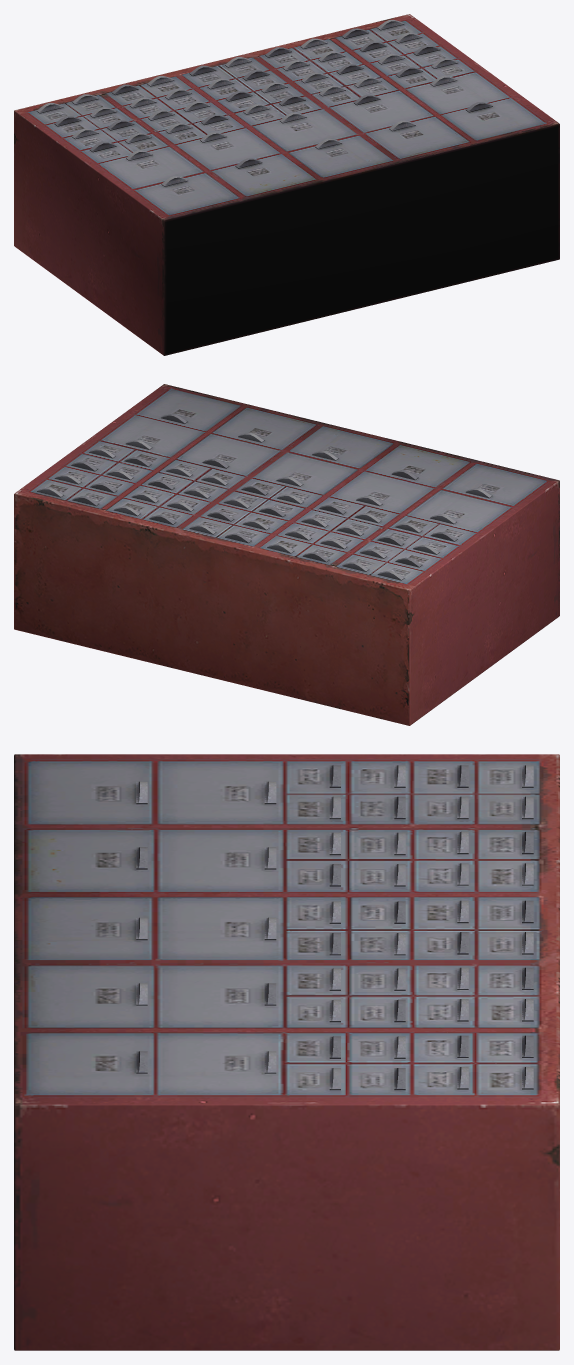
File: drawer_electronics_02.DAE
3 renders of one model, top to bottom at view 1: azimuth 30°, elevation 25°; view 2: azimuth 150°, elevation 25°; view 3: azimuth 270°, elevation 25°, orthographic. The views are drawn at different scales.
Visible parts, largest first — view 1: drawer_electronics_02; view 2: drawer_electronics_02; view 3: drawer_electronics_02.
Boxes of the visible parts, x1,y1,x2,y2 form: drawer_electronics_02: [14, 14, 559, 355]; drawer_electronics_02: [14, 384, 559, 725]; drawer_electronics_02: [14, 754, 559, 1350].
Bounding box in the file's own units: 0.7596 × 0.4996 × 0.2599.
